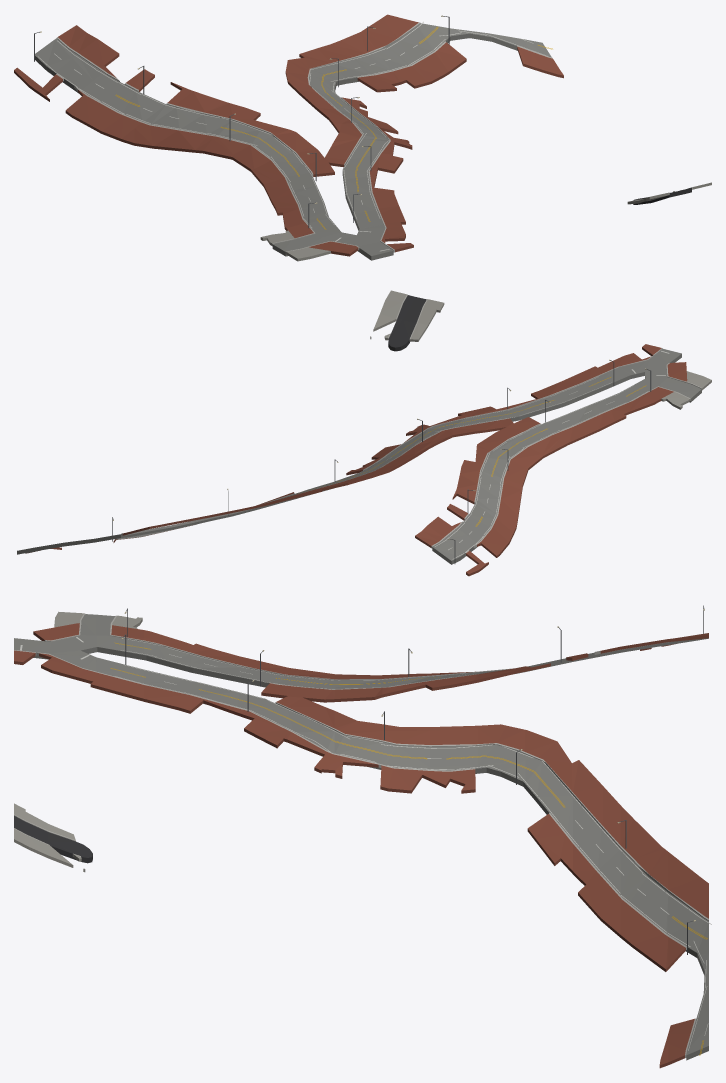
3 views of the same model, one above another, from view 1: azimuth 30°, elevation 25°; view 2: azimuth 150°, elevation 25°; view 3: azimuth 270°, elevation 25° (orthographic). The views are drawn at different scales.
Bounding box in the file's own units: 149 × 43.38 × 146.
